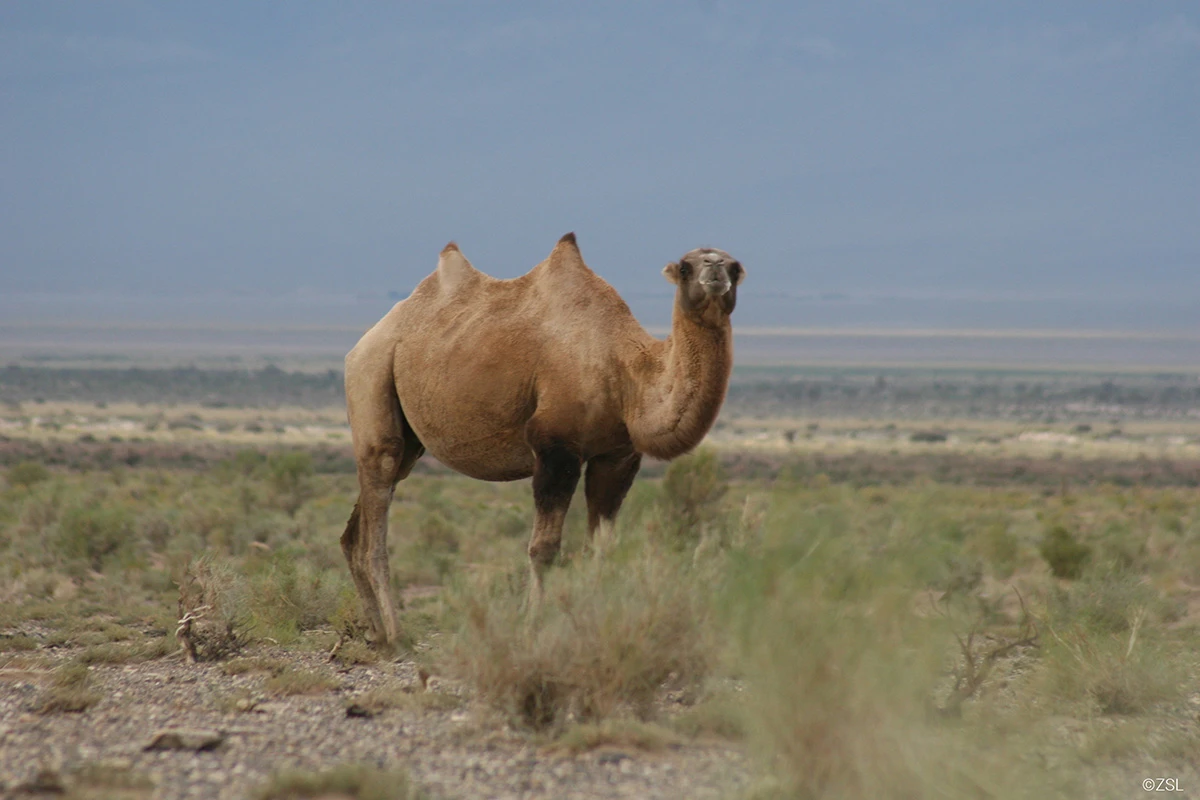camel: (331, 231, 756, 675)
